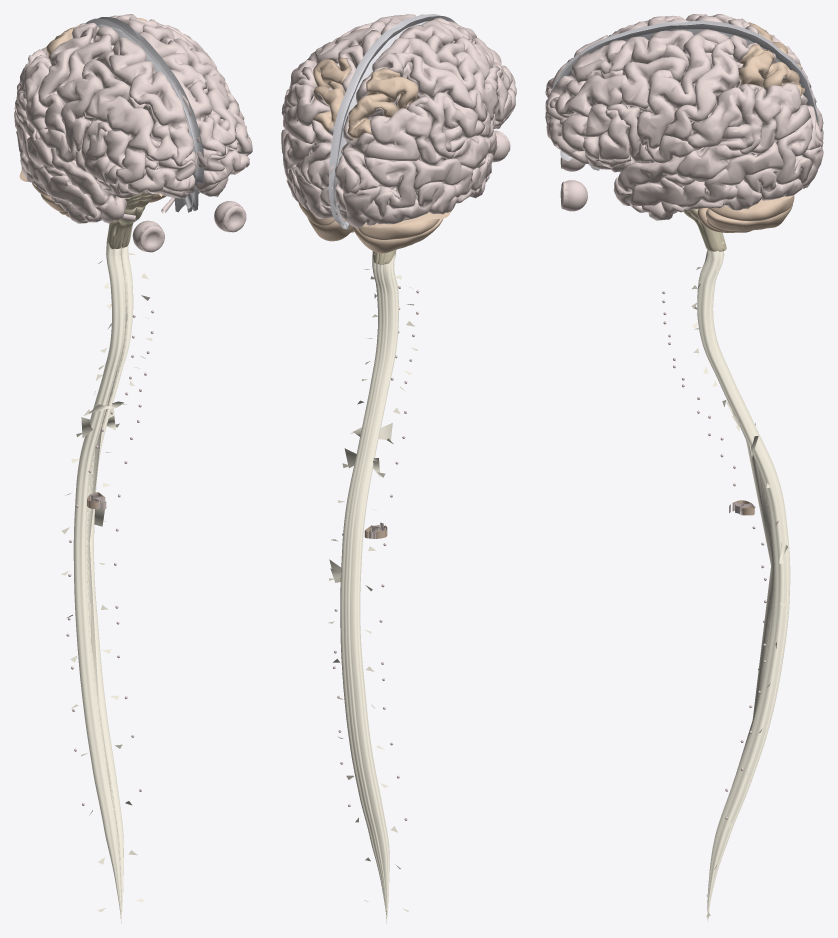
File: nervous-v1.glb
The picture shows the model from 3 angles, left to right: view 1: azimuth 30°, elevation 25°; view 2: azimuth 150°, elevation 25°; view 3: azimuth 270°, elevation 25°; orthographic projection.
Parts seen in each view (by area): view 1: cerebrum, spinal_cord, meninges, brainstem, cerebellum; view 2: cerebrum, spinal_cord, cerebellum, meninges; view 3: cerebrum, spinal_cord, cerebellum, meninges, brainstem.
Part boxes in pixels (left/top/right/bottom): cerebrum: left=14, top=14, right=252, bottom=805; spinal_cord: left=61, top=243, right=152, bottom=923; meninges: left=85, top=17, right=203, bottom=212; brainstem: left=93, top=191, right=154, bottom=500; cerebellum: left=19, top=15, right=166, bottom=509; cerebrum: left=281, top=14, right=516, bottom=820; spinal_cord: left=328, top=253, right=417, bottom=923; cerebellum: left=286, top=58, right=451, bottom=538; meninges: left=328, top=14, right=456, bottom=229; cerebrum: left=545, top=14, right=823, bottom=819; spinal_cord: left=691, top=241, right=790, bottom=923; cerebellum: left=697, top=22, right=805, bottom=515; meninges: left=551, top=20, right=818, bottom=170; brainstem: left=683, top=209, right=744, bottom=504.
Size of the model in its own units: 0.1378 by 0.6462 by 0.1807.
